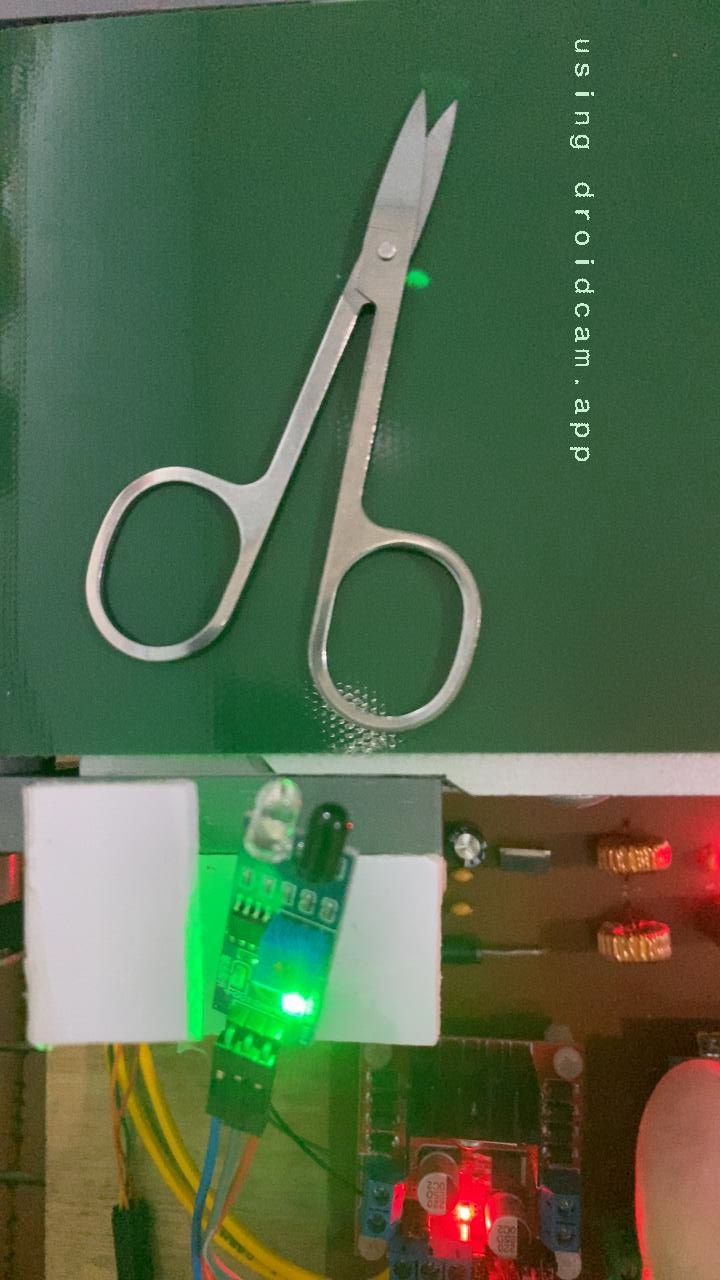scissor: (78, 88, 490, 737)
